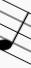note: (1, 9, 30, 53)
